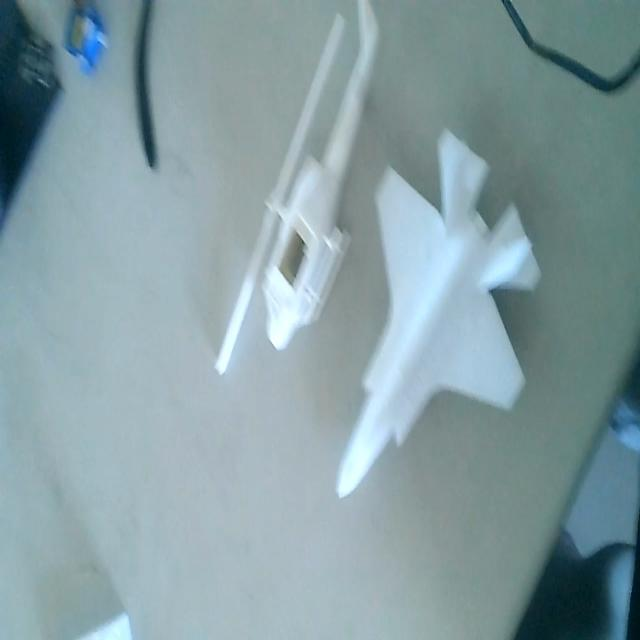Helicopter: (215, 0, 379, 372)
Jet: (337, 128, 537, 493)
